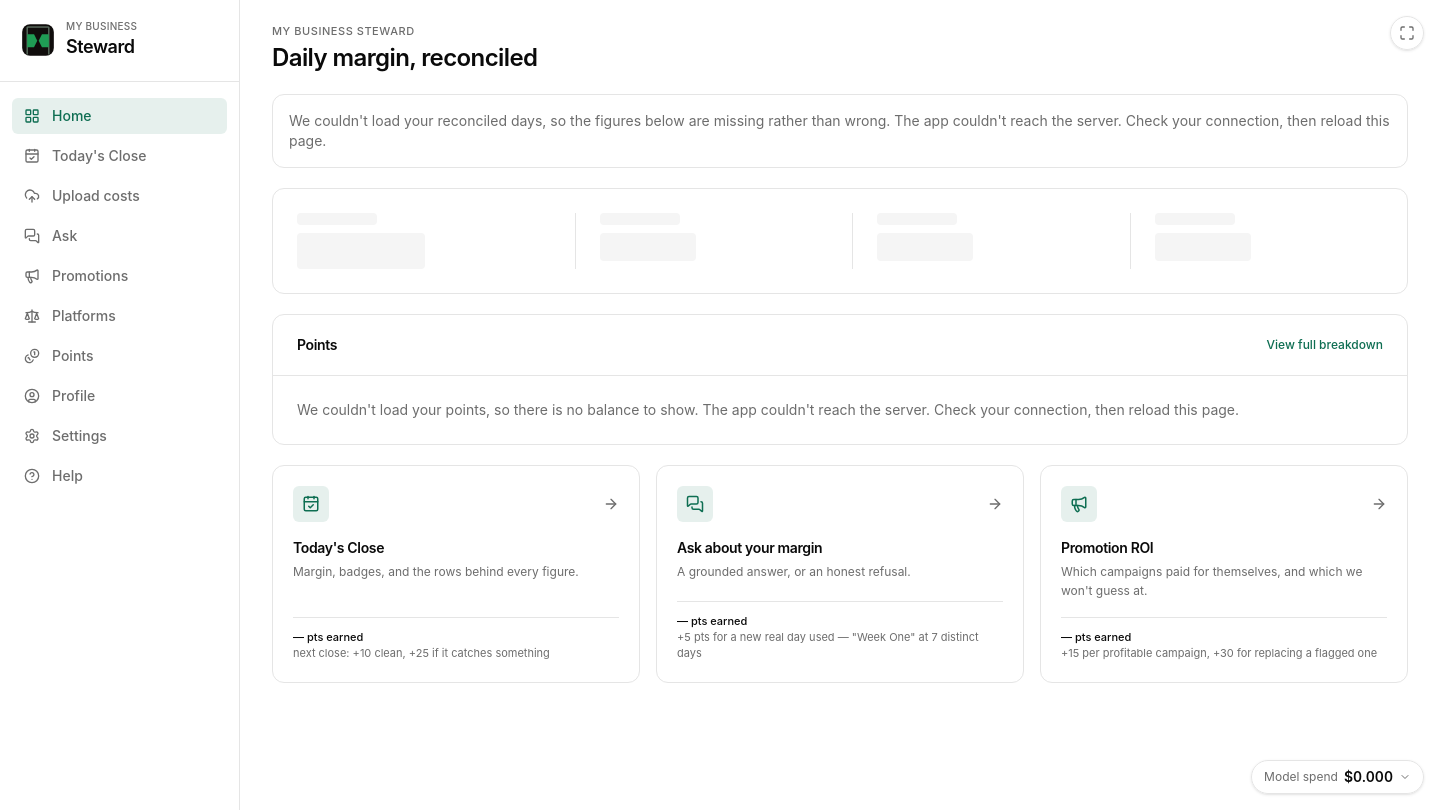
Test case: App › navigates to another route when its sidebar nav item is clicked
Click the link "Today's Close". click: (85, 155)
box: [24,146,147,164]
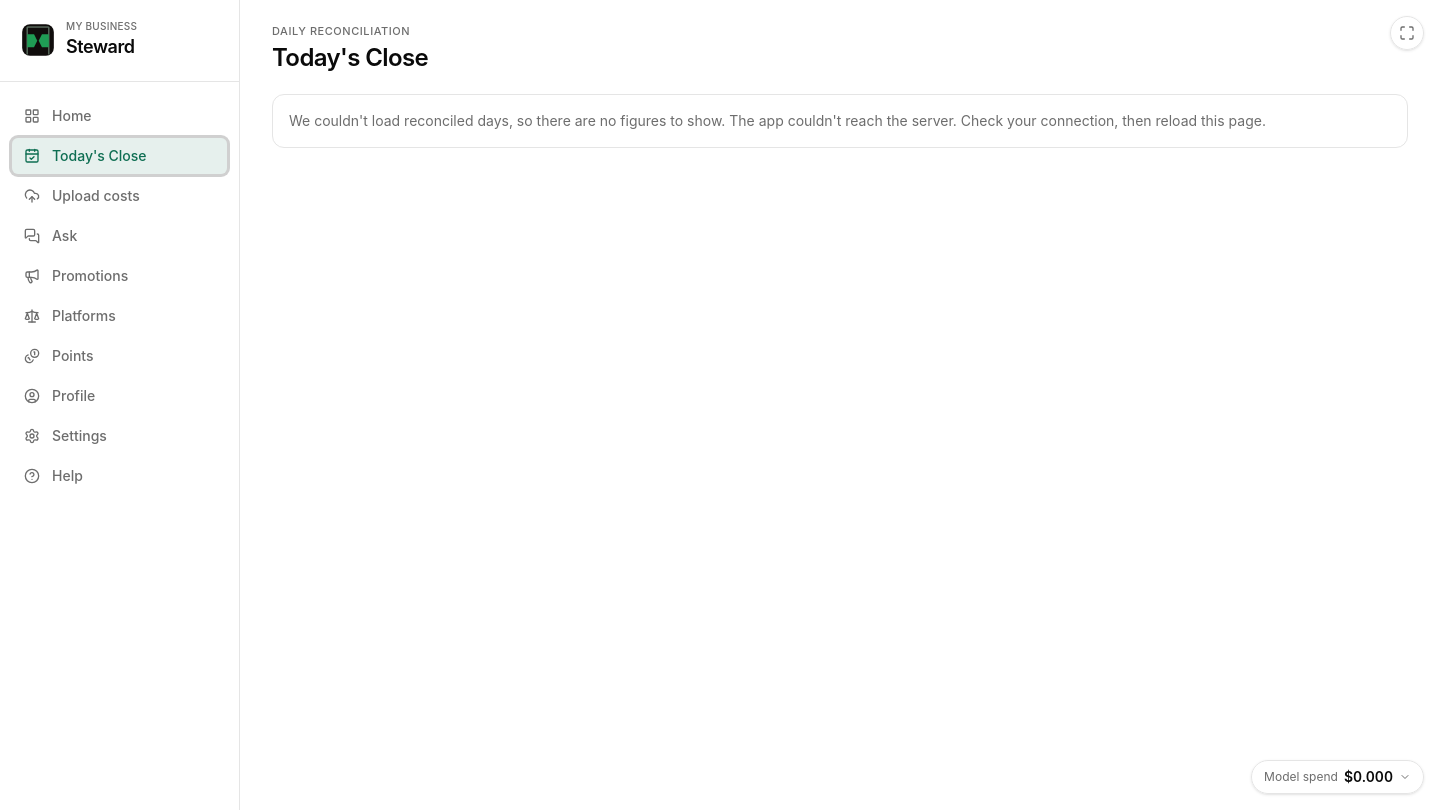
Result: the heading "Today's Close" is shown at [272,42,428,74]
